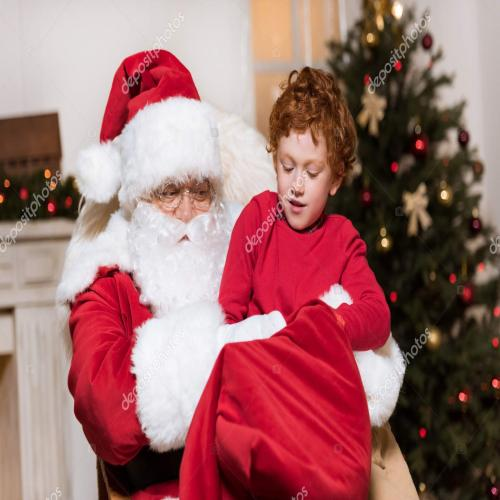Santa: (58, 49, 405, 498)
